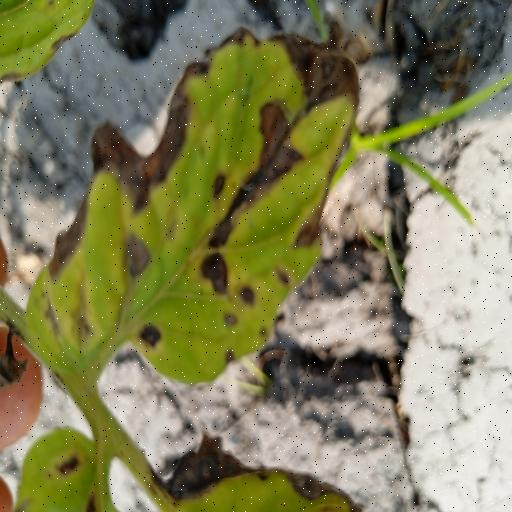Tomato_Brown_Spots: (26, 14, 360, 390)
